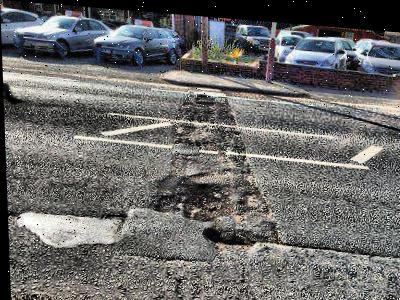pothole: (147, 167, 239, 219), (199, 221, 255, 247), (193, 88, 214, 105)
